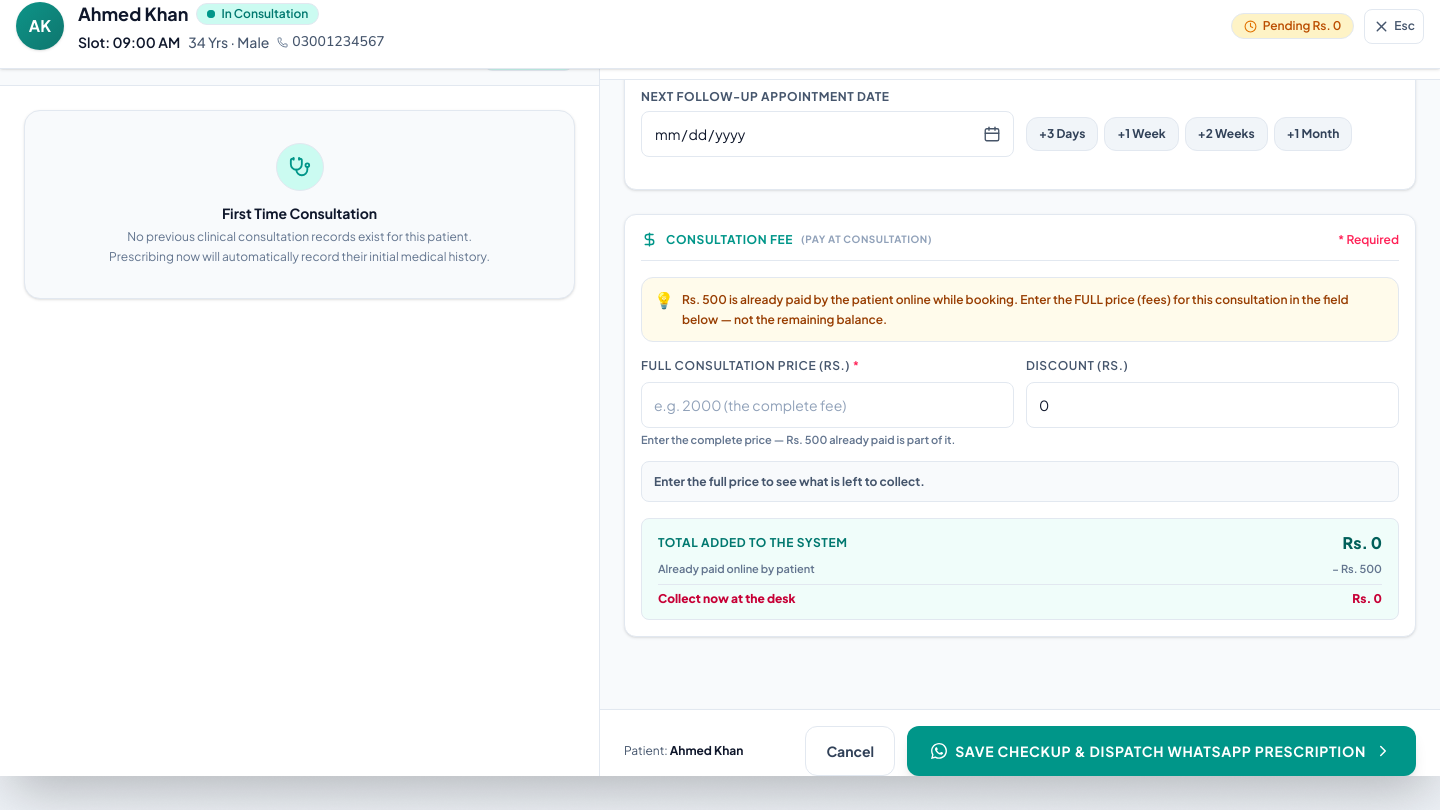
Test: Consultation Workspace — price taken at consultation time › shows the total that will be recorded and the cash to collect now
The image size is (1440, 810).
(page scrolled)
Type "2000" into the number field labelled "Full Consultation Price (Rs.) *".
click(828, 405); type("2000")  # box [641,382,1014,428]
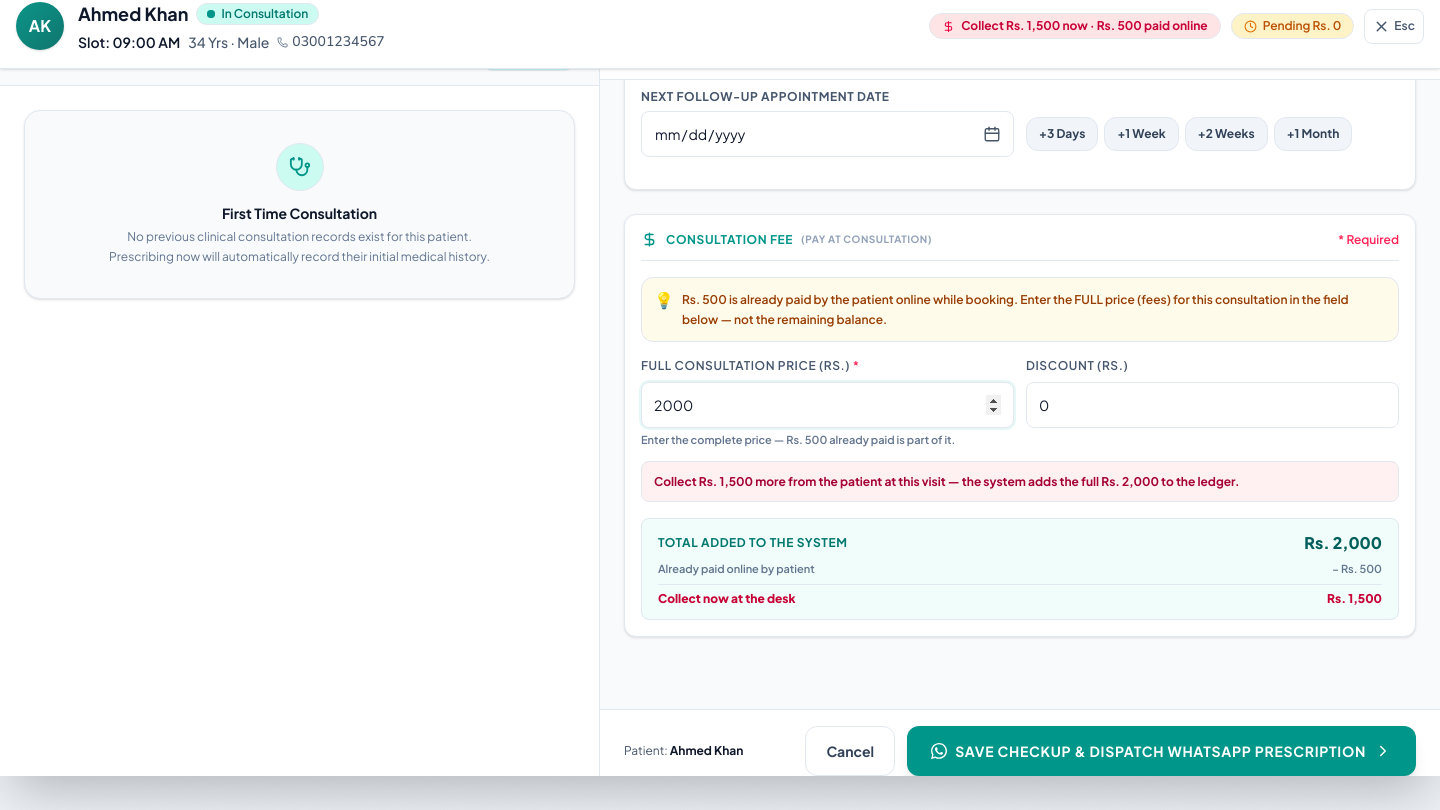
Expected: the text "Total added to the system" is shown, [658,535,848,551]
Expected: the text "Rs. 2,000" is shown, [1304,531,1382,555]
Expected: the text "Rs. 1,500" is shown, [1327,590,1382,606]
